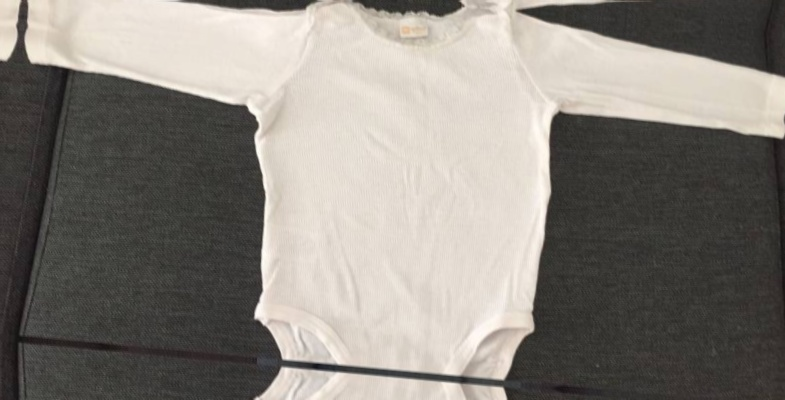Body: (6, 0, 785, 400), (0, 343, 769, 400), (40, 0, 785, 33), (0, 0, 14, 331)
